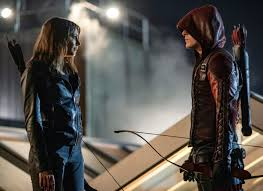Caution: (22, 5, 242, 191)
